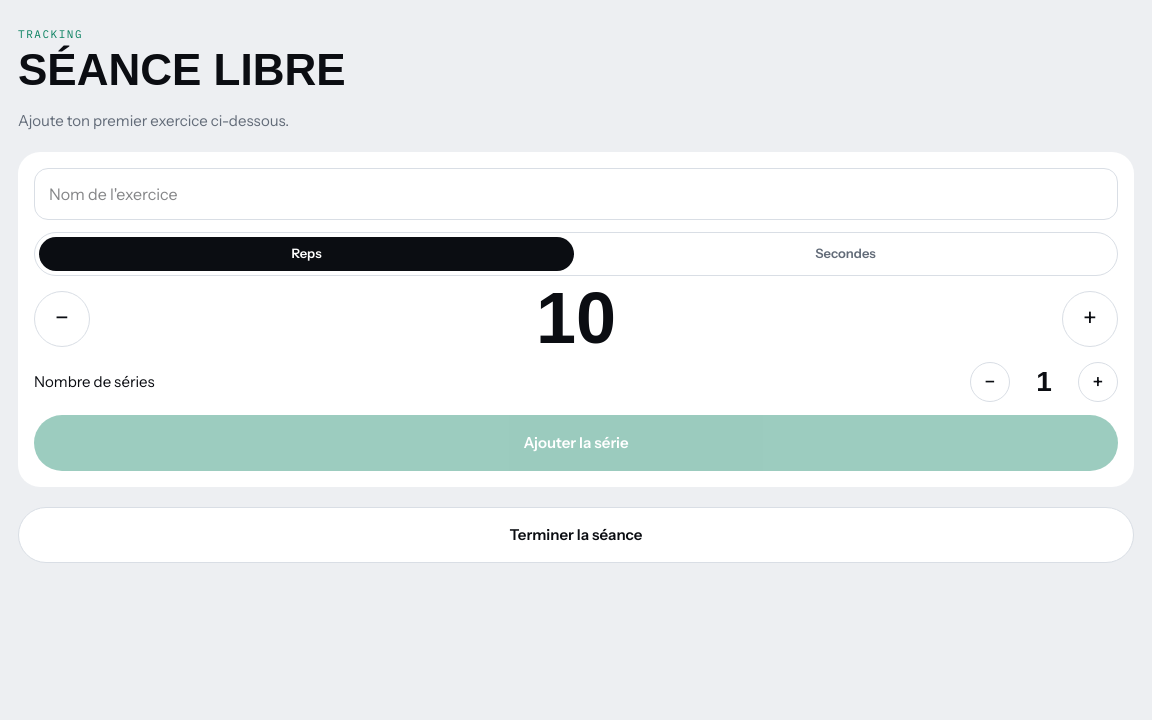
Test: TrackingSeanceScreen › locks the unit picker to a known exercise's unit and hides the reps/seconds toggle
The width and height of the screenshot is (1152, 720).
Type "Planche" into the field with placeholder "Nom de l'exercice".
click(576, 194); type("Planche")  # box [34,168,1118,220]
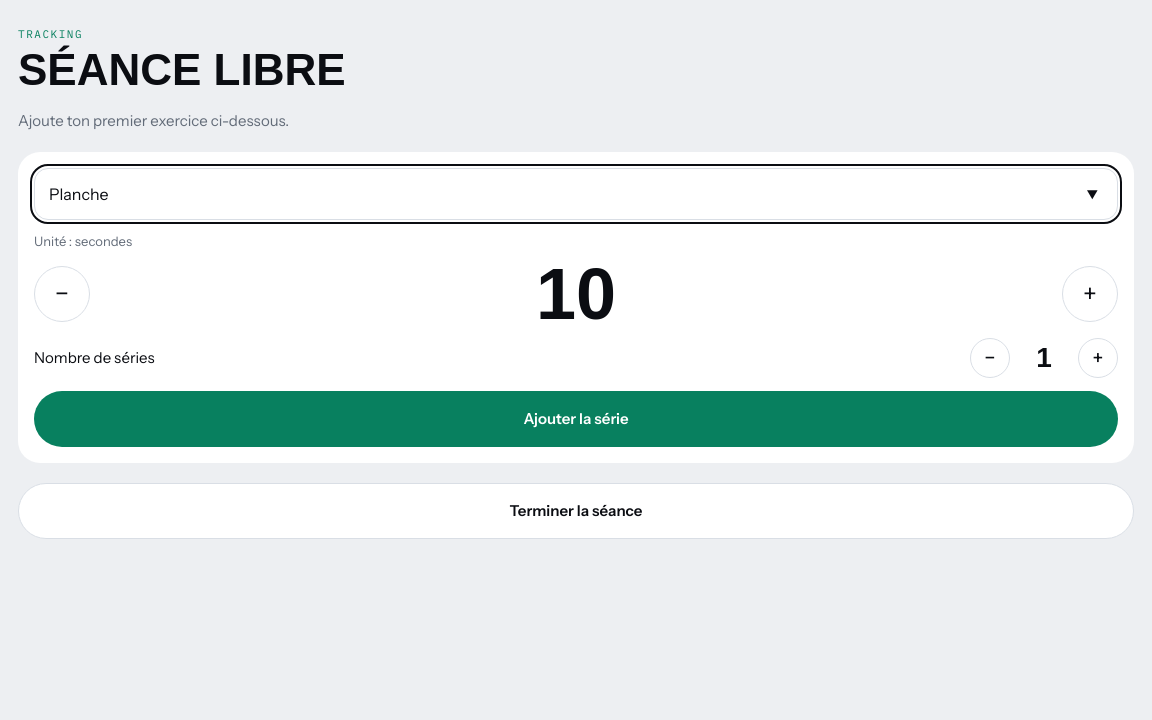
Expected: the text "Unité : secondes" is shown, [34,233,132,249]
Expected: the button "Reps" is gone
